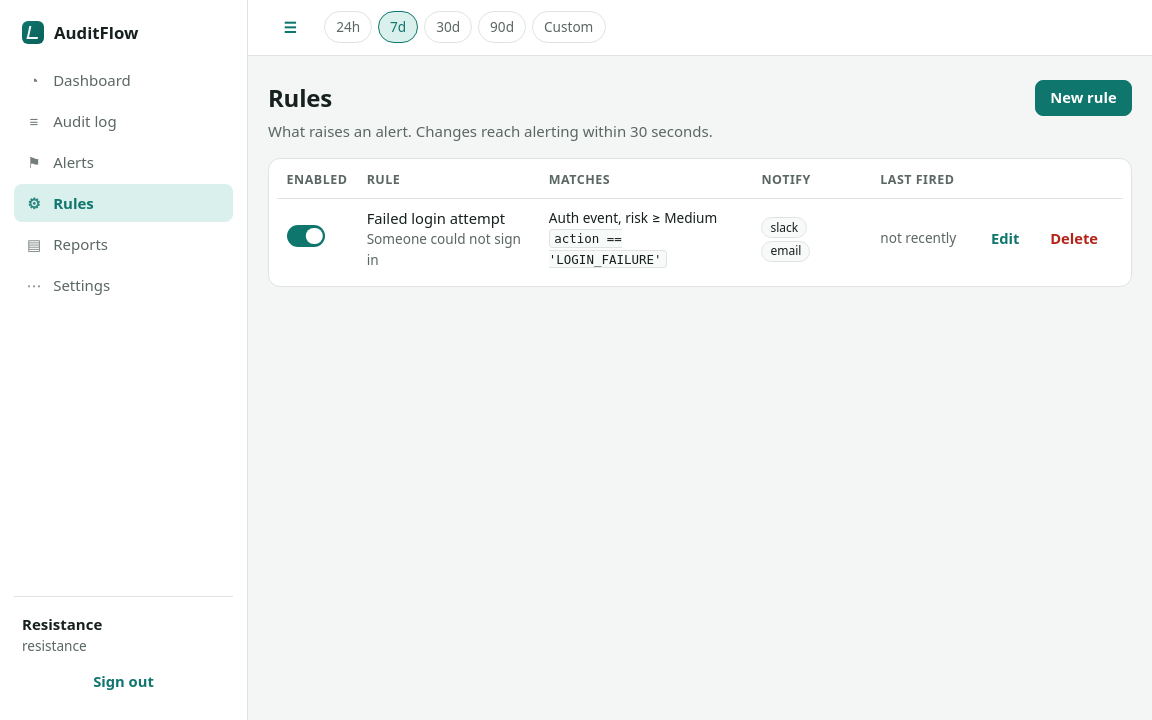
Test: rules › toggles a rule in place with the full rule in the PUT, and rolls back when it fails
What coordinates should you click on to do the following:
click the checkbox named "Failed login attempt enabled"
I would click on:
 (306, 236)
Its box is left=287, top=225, right=325, bottom=247.
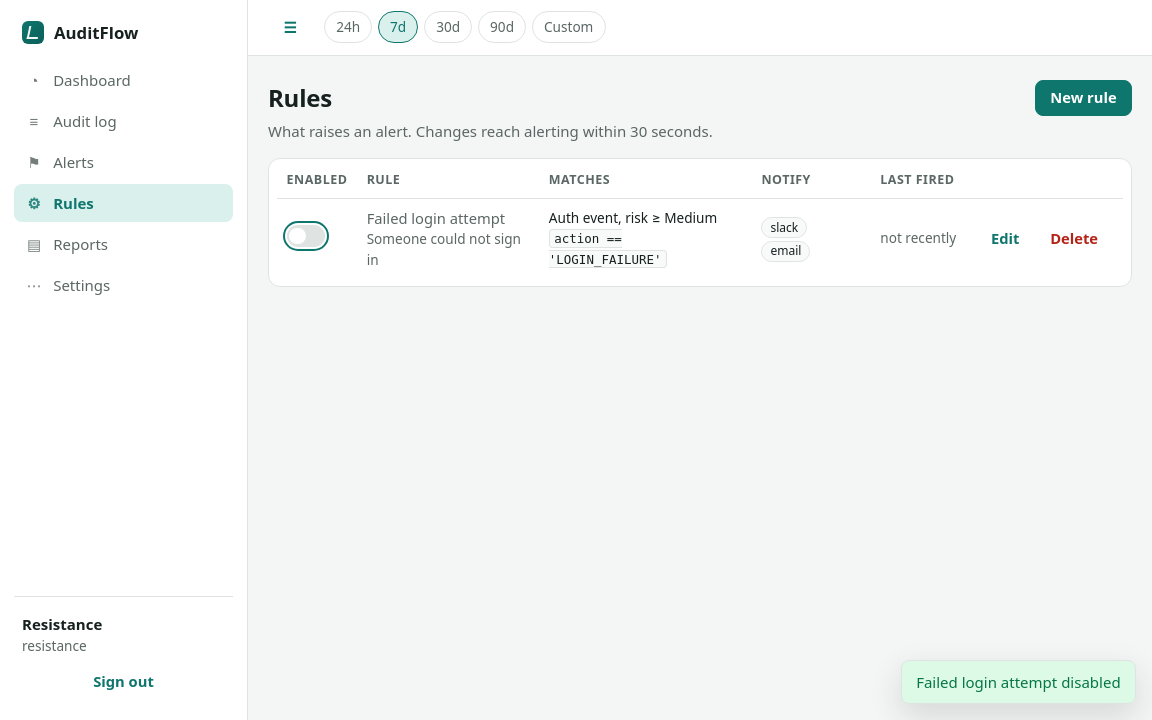
Expected: the checkbox named "Failed login attempt enabled" is not checked
Expected: the text "Failed login attempt disabled" is shown, left=901, top=660, right=1136, bottom=704
What coordinates should you click on to do the following:
click the checkbox named "Failed login attempt enabled"
I would click on:
 (306, 236)
Its box is left=287, top=225, right=325, bottom=247.
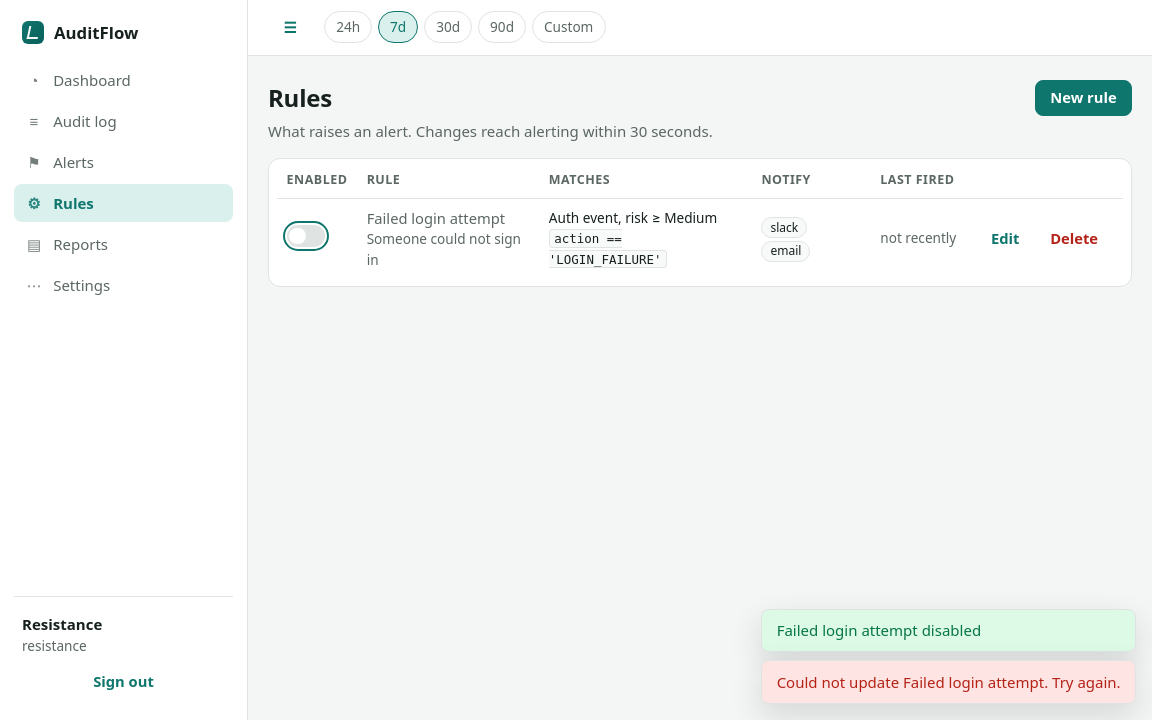
Expected: the checkbox named "Failed login attempt enabled" is not checked, left=287, top=225, right=325, bottom=247
Expected: the text "Could not update Failed login attempt. Try again." is shown, left=761, top=660, right=1136, bottom=704
